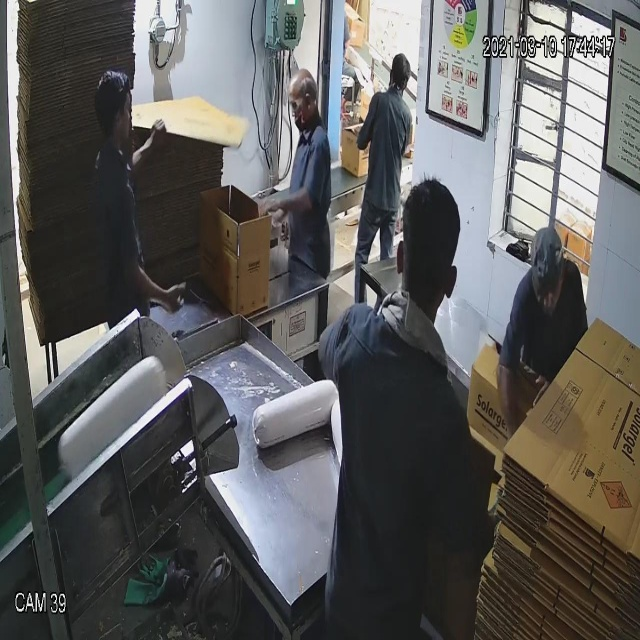Sin_guantes: (117, 252, 204, 340), (115, 115, 175, 179), (250, 182, 319, 231)
